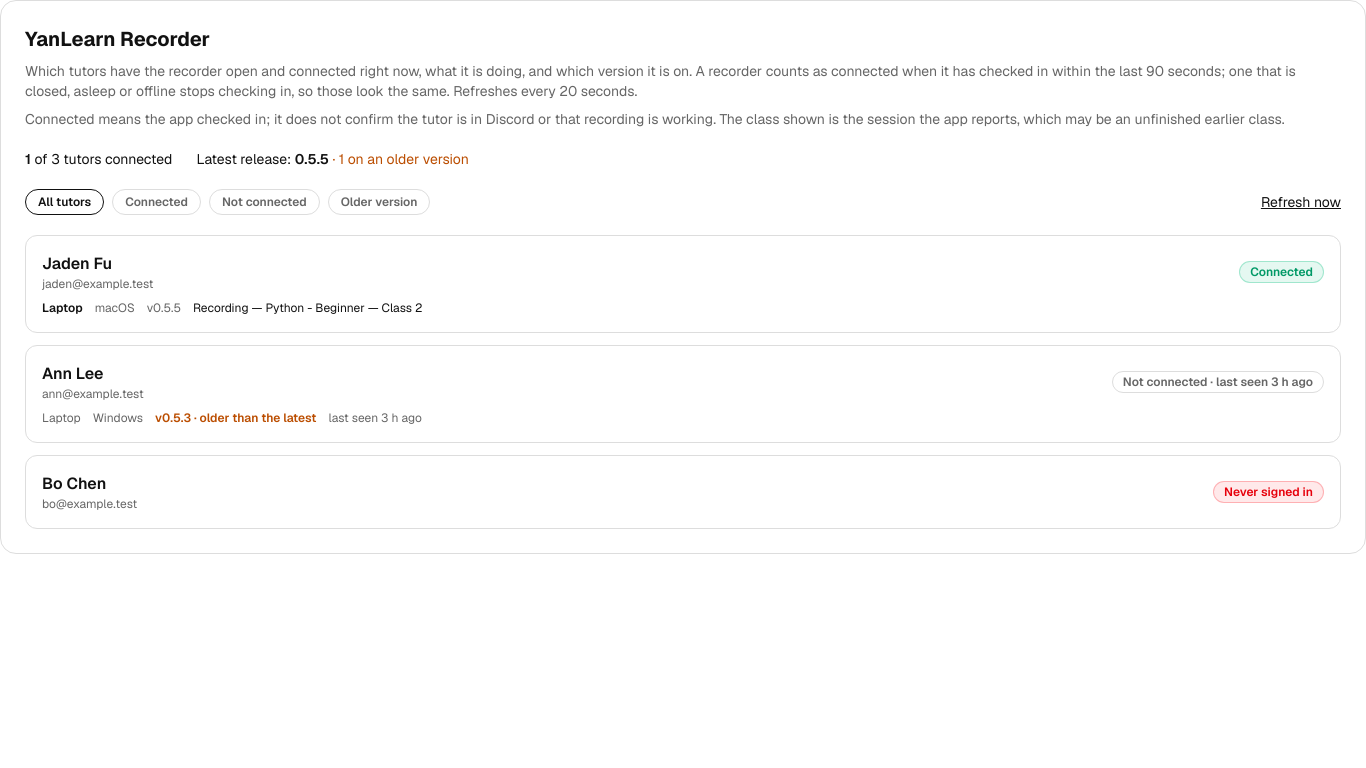
Test case: AdminRecorderStatus › flags a Mac whose Recorder reports that macOS is blocking screen recording
Expected: the text "macOS is blocking screen recording" is not shown
Click the button "Refresh now" at [1301, 202], box [1261, 192, 1341, 212]
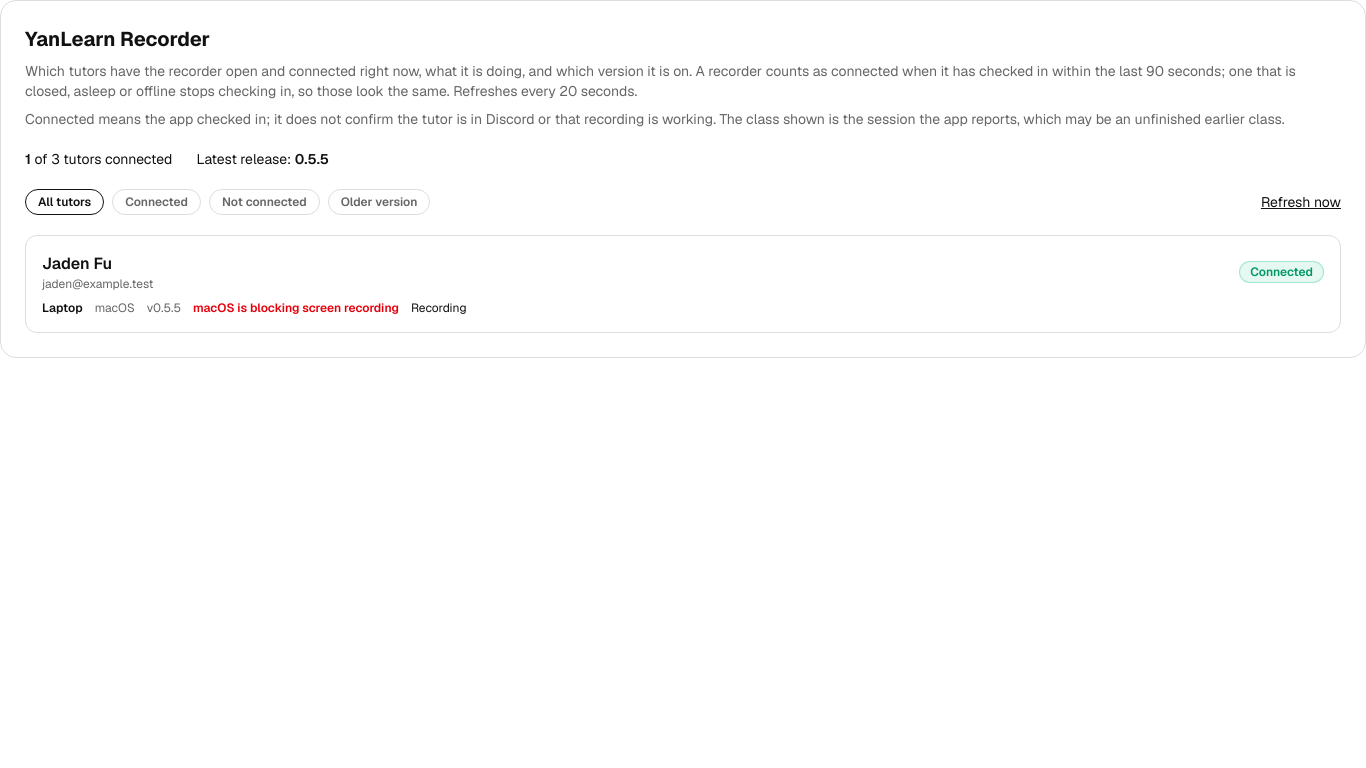
Now the text "macOS is blocking screen recording" is shown, box [193, 300, 399, 316]
